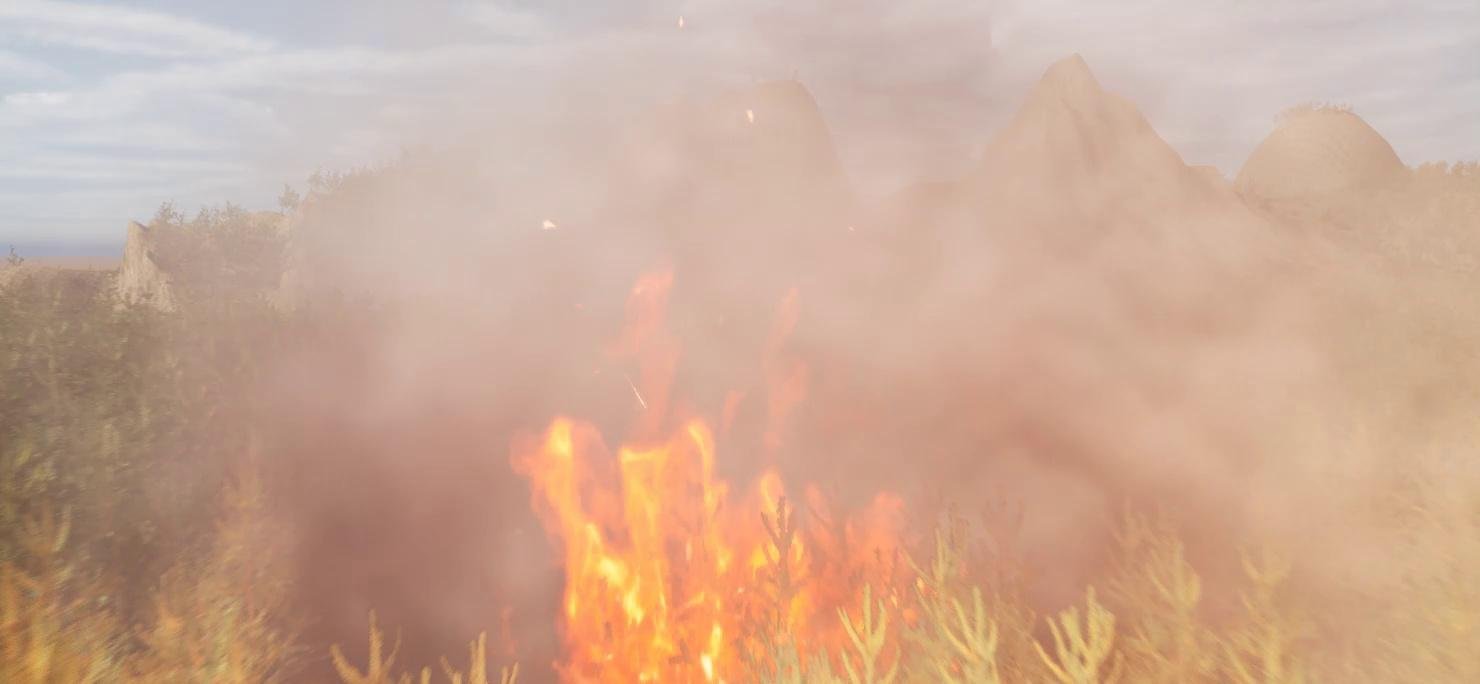fire: (509, 260, 935, 683)
smoke: (48, 6, 1479, 683)
